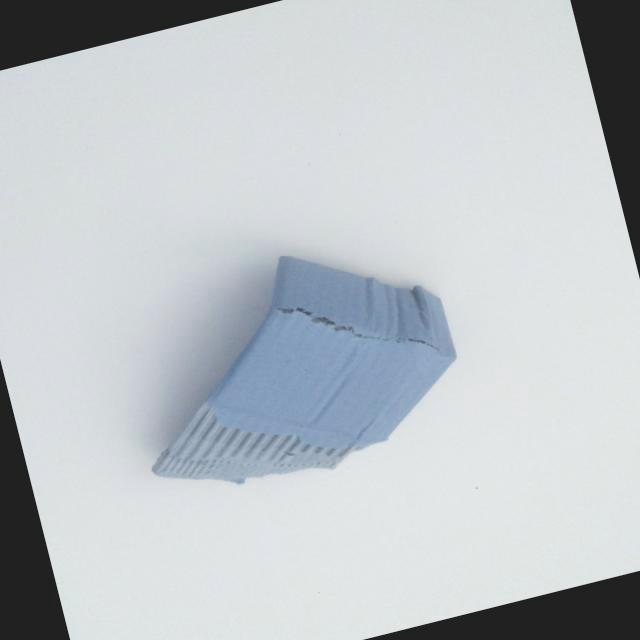cardboard: (76, 194, 523, 568)
